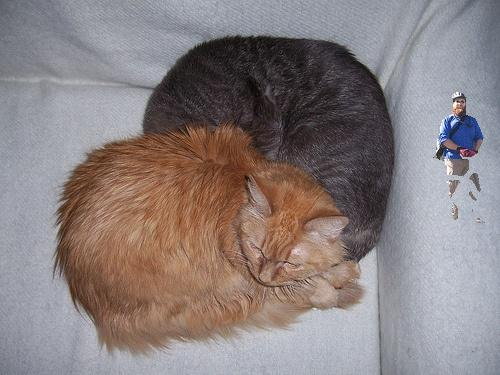tampered: (434, 93, 488, 223)
